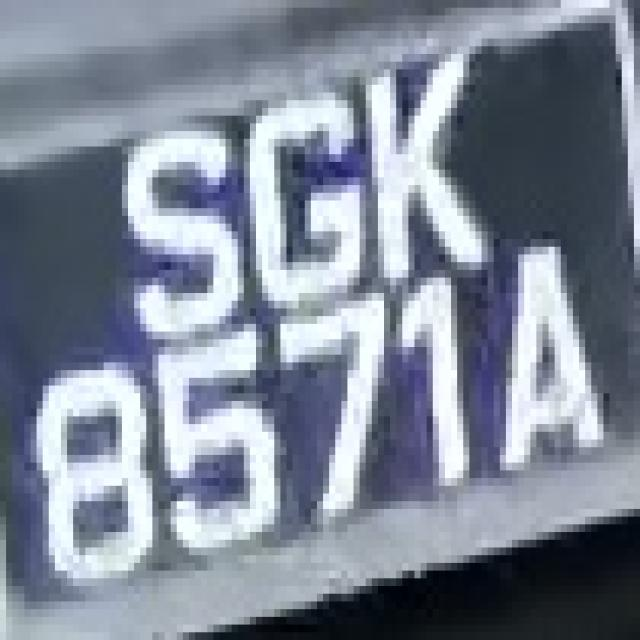1: (378, 254, 481, 509)
5: (140, 301, 293, 555)
7: (250, 262, 396, 555)
8: (6, 347, 177, 594)
A: (482, 216, 604, 486)
G: (244, 70, 372, 316)
K: (341, 31, 494, 277)
S: (91, 93, 238, 339)
